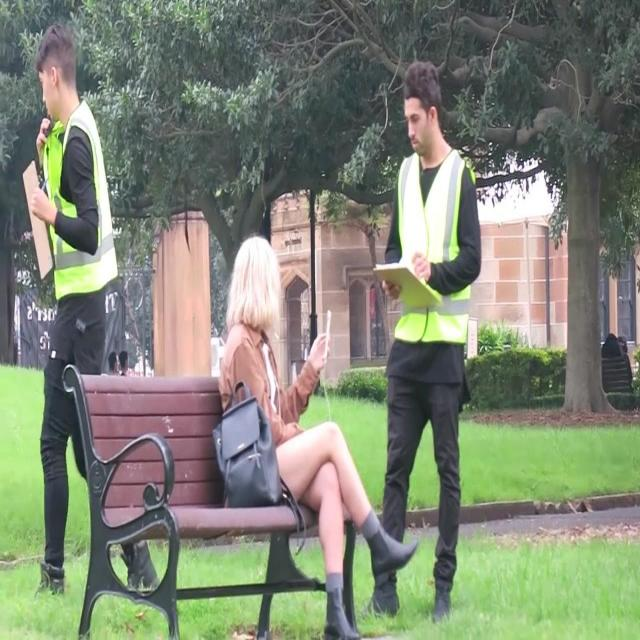Reflective-Jacket: (35, 103, 119, 311), (392, 145, 475, 347)
